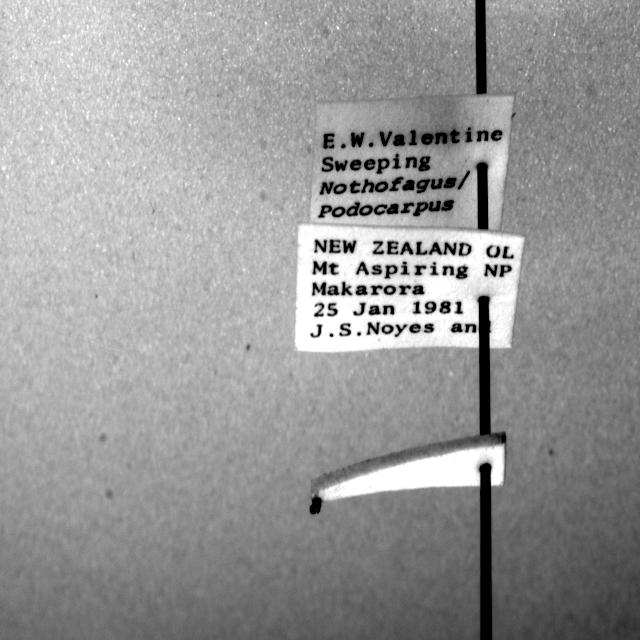typed_label: (295, 223, 524, 352), (310, 94, 514, 231)
